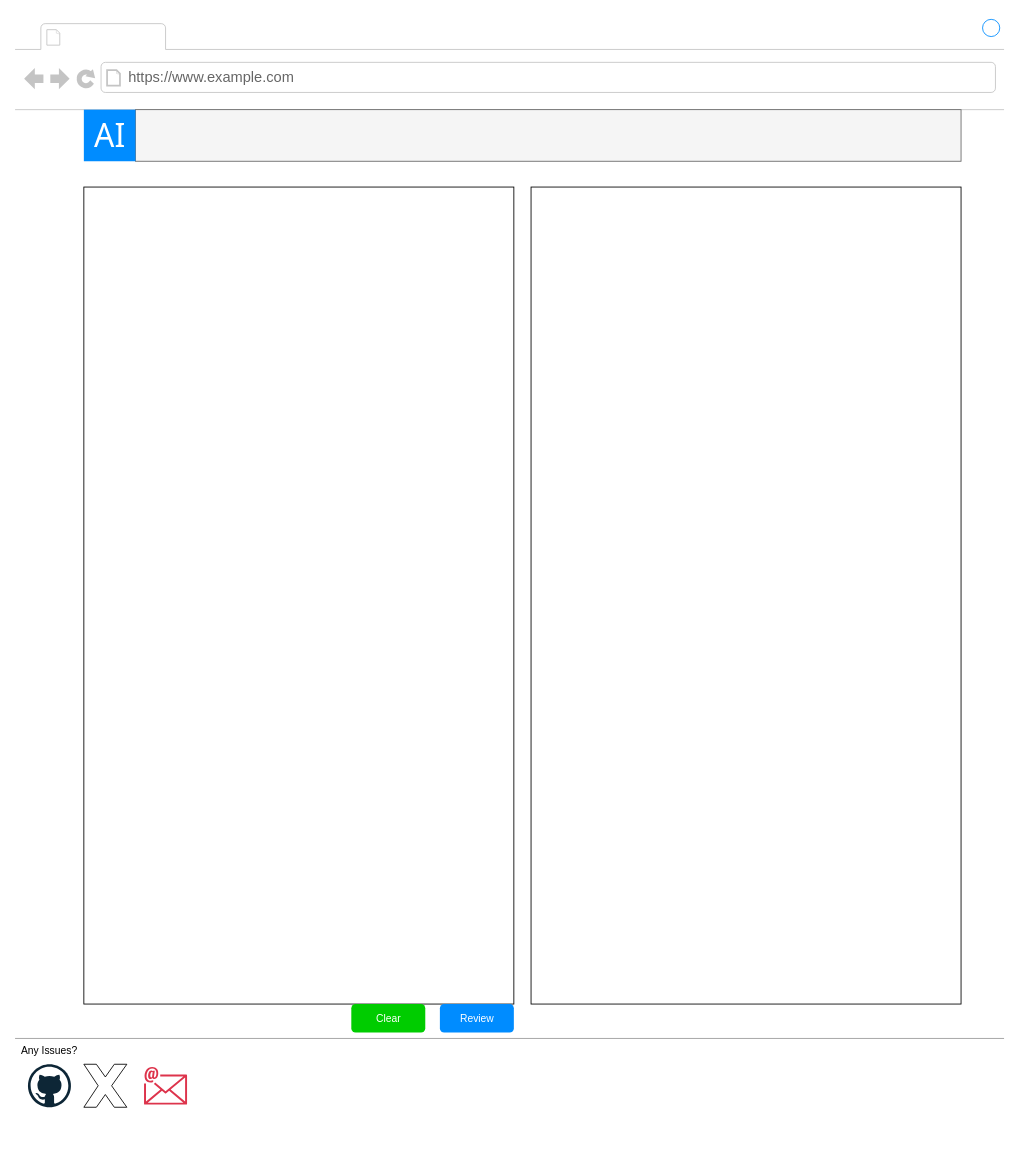
The diagram is 1019 pixels wide and 1174 high, and some of its shapes have lost their labels. The shapes that lost their labels are listed below. From the top down, each one's centre as x and y in pixels, then its label:
At pixel 113 36: "Page 1".
At pixel 548 135: "AI Review Tool".
